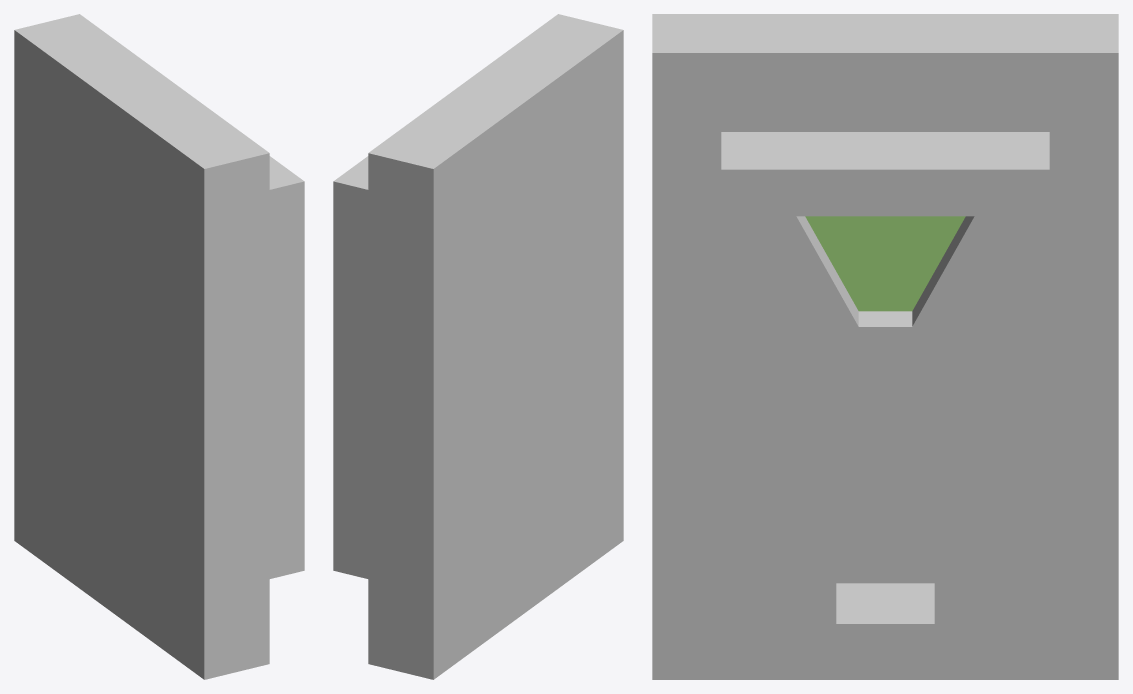
File: terminal.fbx
The picture shows the model from 3 angles, left to right: view 1: azimuth 30°, elevation 25°; view 2: azimuth 150°, elevation 25°; view 3: azimuth 270°, elevation 25°; orthographic projection. The views are drawn at different scales.
Parts seen in each view (by area): view 1: Cube; view 2: Cube; view 3: Cube.
Part boxes in pixels (bbox=[...]): Cube: bbox=[14, 14, 304, 679]; Cube: bbox=[333, 14, 623, 679]; Cube: bbox=[652, 14, 1118, 679].
Size of the model in its own units: 111 by 422 by 284.
